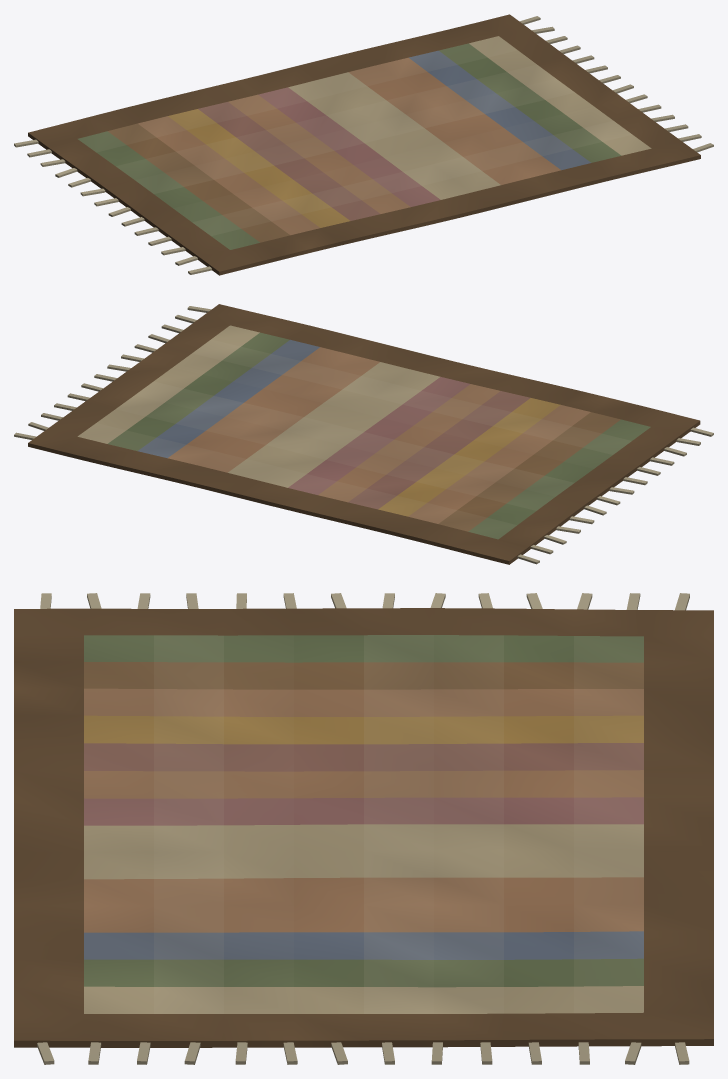
Rendered from ph_int_rug.glb.
The picture shows the model from 3 angles, top to bottom: view 1: azimuth 30°, elevation 25°; view 2: azimuth 150°, elevation 25°; view 3: azimuth 270°, elevation 25°; orthographic projection. The views are drawn at different scales.
Parts seen in each view (by area): view 1: ph_int_rug; view 2: ph_int_rug; view 3: ph_int_rug.
Part boxes in pixels (box(x1,y1,x2,y2)): ph_int_rug: box(14, 14, 713, 275); ph_int_rug: box(14, 304, 713, 564); ph_int_rug: box(14, 593, 713, 1064).
Size of the model in its own units: 1.74 by 0.0169 by 1.1.
